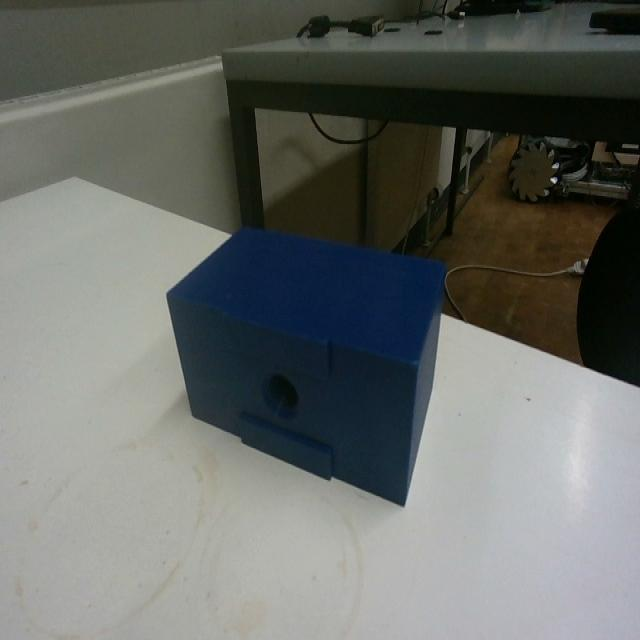Blue Cuboid: (164, 220, 448, 508)
